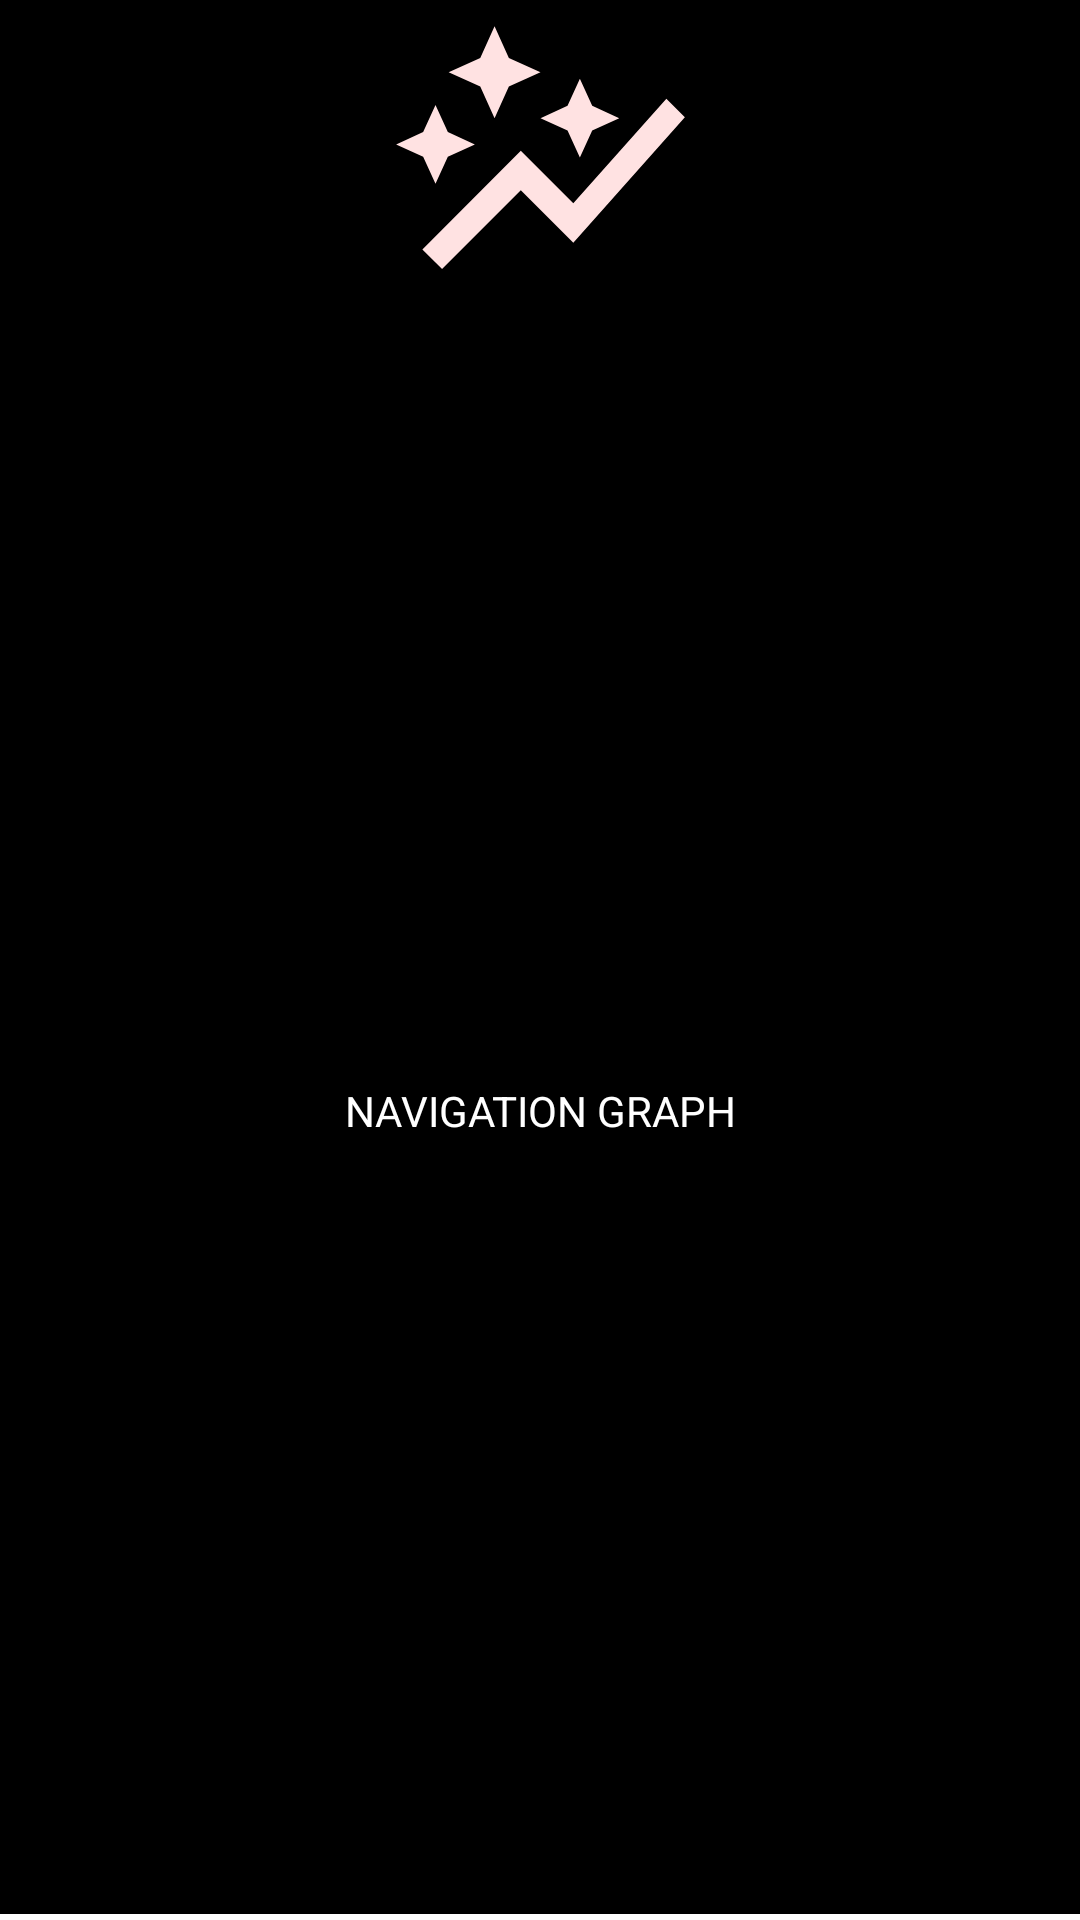

Screen size 1080 × 1920. Icon name, then its box in pixels as bbox=(x1, y1, x2, y2):
graph: bbox=(396, 26, 685, 269)
